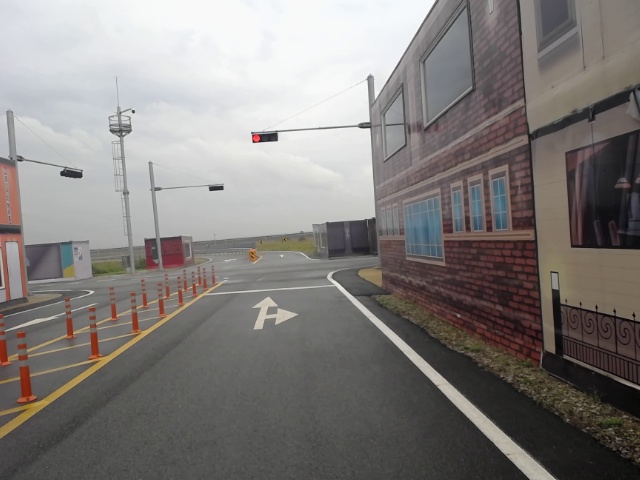red_3: (251, 132, 279, 143)
